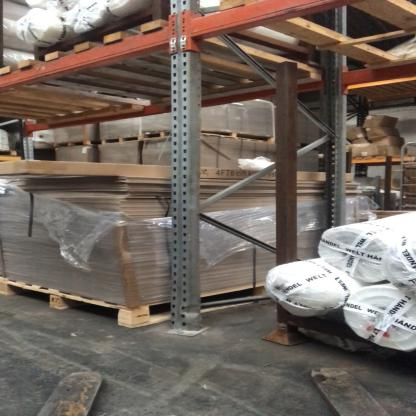vertical_damage: (167, 296, 213, 339)
